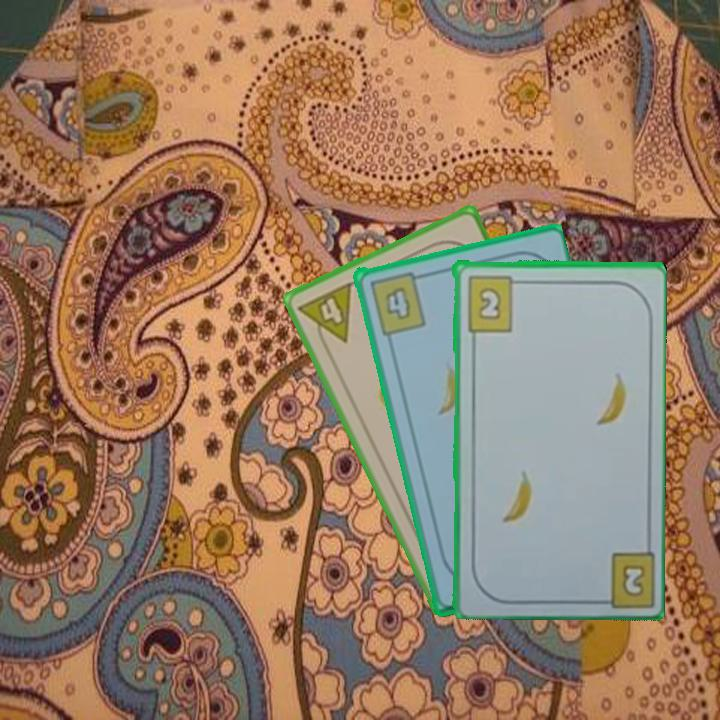2b: (463, 272, 524, 333), (618, 560, 648, 599)
4b: (365, 268, 428, 337)
4p: (294, 278, 355, 354)
